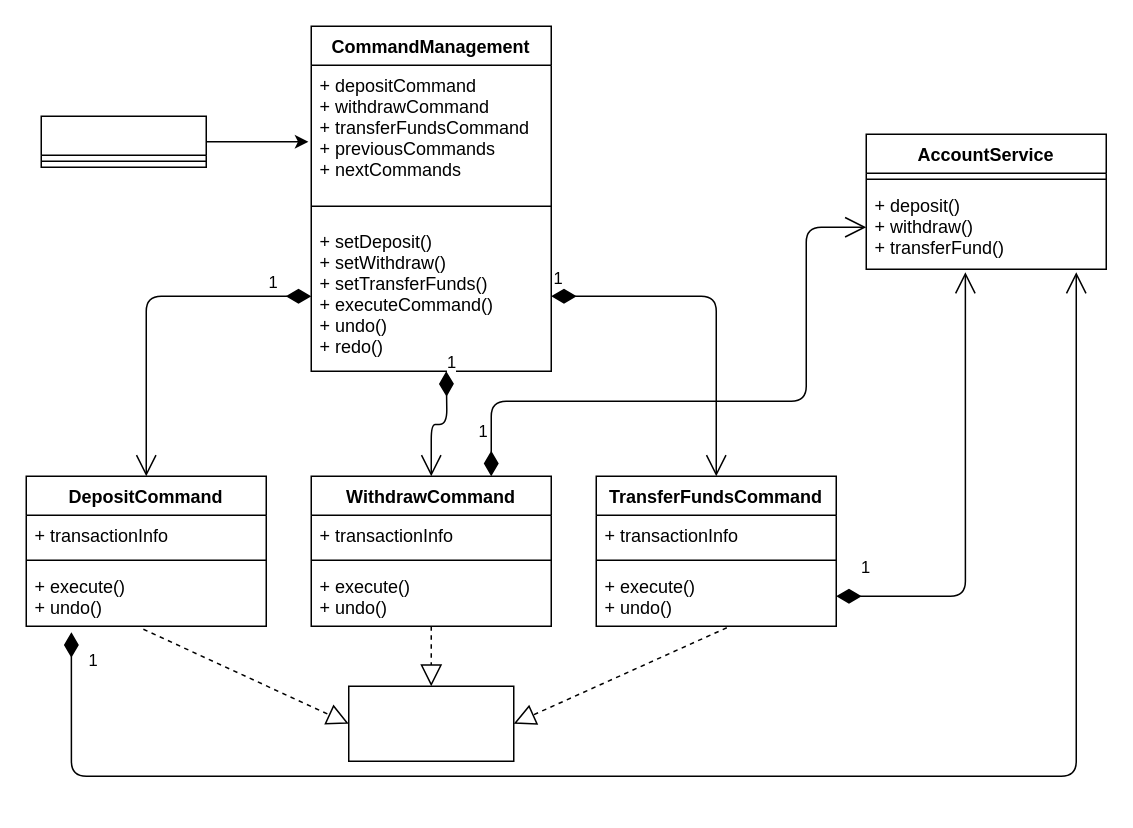
Some shapes in this 1133 by 828 pixel diagram are drawn without their labels. Here are the shapes that lost their labels. From the top down, the centre of each, then its label:
the point at 123,141: Application
the point at 430,723: «interface» Command
